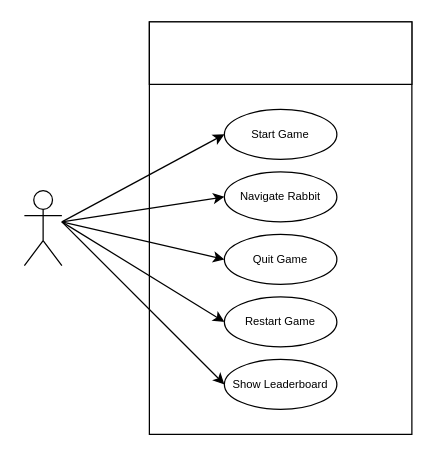
Some shapes in this 434 by 456 pixel diagram are drawn without their labels. Here are the shapes that lost their labels. From the top down, the centre of each, then its label:
At (280,52): "Rabbit Hop".
At (42,227): "Player".
